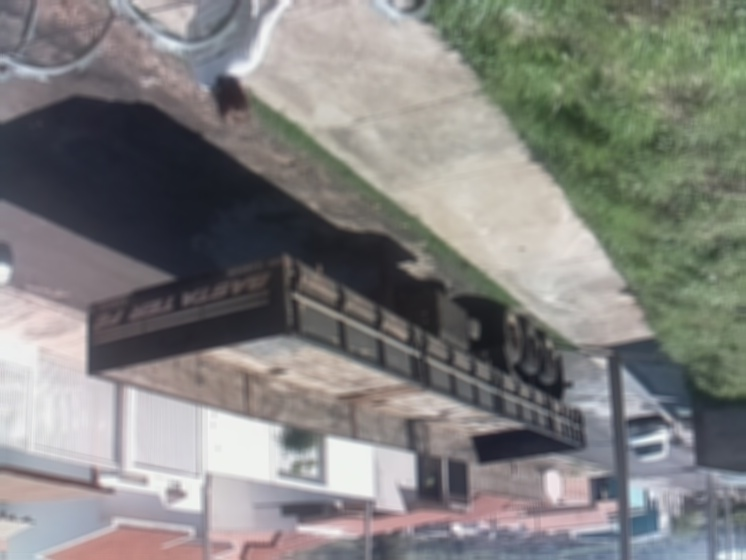person: (182, 0, 300, 124)
